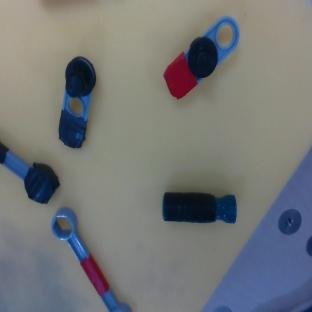part_1_bad: (52, 54, 100, 150)
part_1_good: (156, 10, 250, 103)
part_2_bad: (162, 191, 237, 223)
part_3_bad: (0, 128, 66, 209)
part_3_good: (44, 203, 131, 312)
